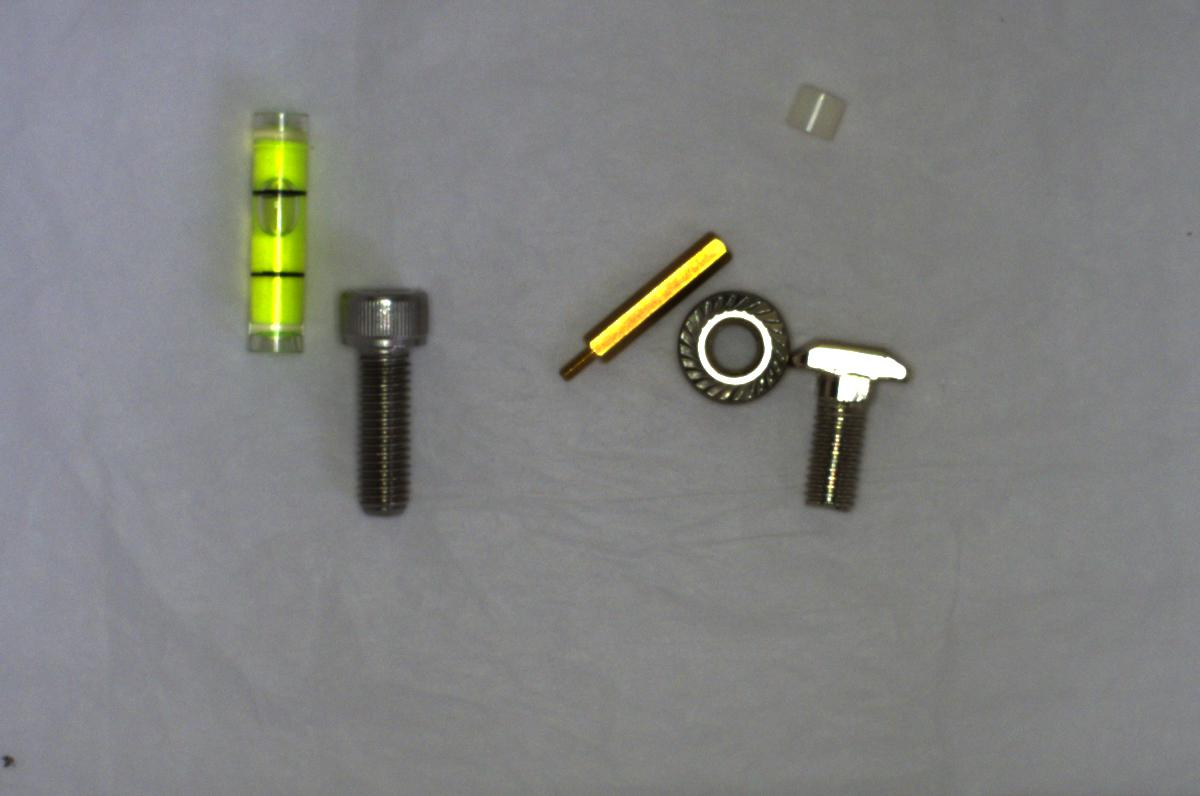Flange nut: (674, 287, 794, 412)
Hexagon pillar: (556, 231, 741, 376)
Hexagon screw: (320, 272, 448, 522)
Horizontal bubble: (238, 100, 316, 365)
Plastic cushion pillar: (773, 76, 850, 147)
T-shaped screw: (791, 331, 911, 508)
